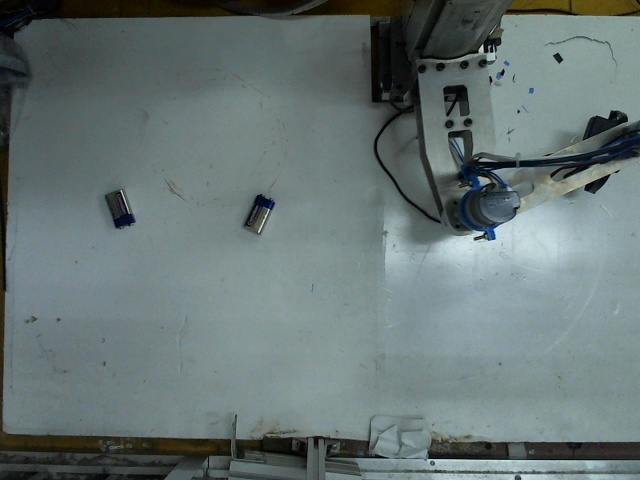battery: (242, 192, 274, 233), (101, 185, 135, 222)
